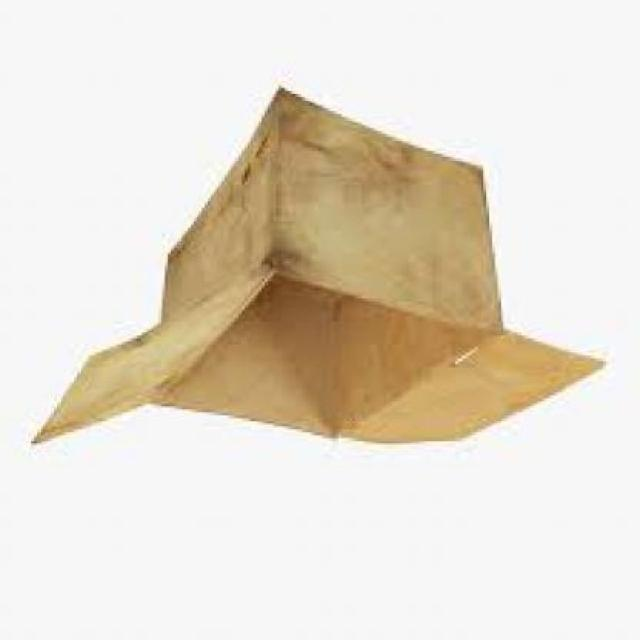CARDBOARD: (25, 88, 601, 449)
